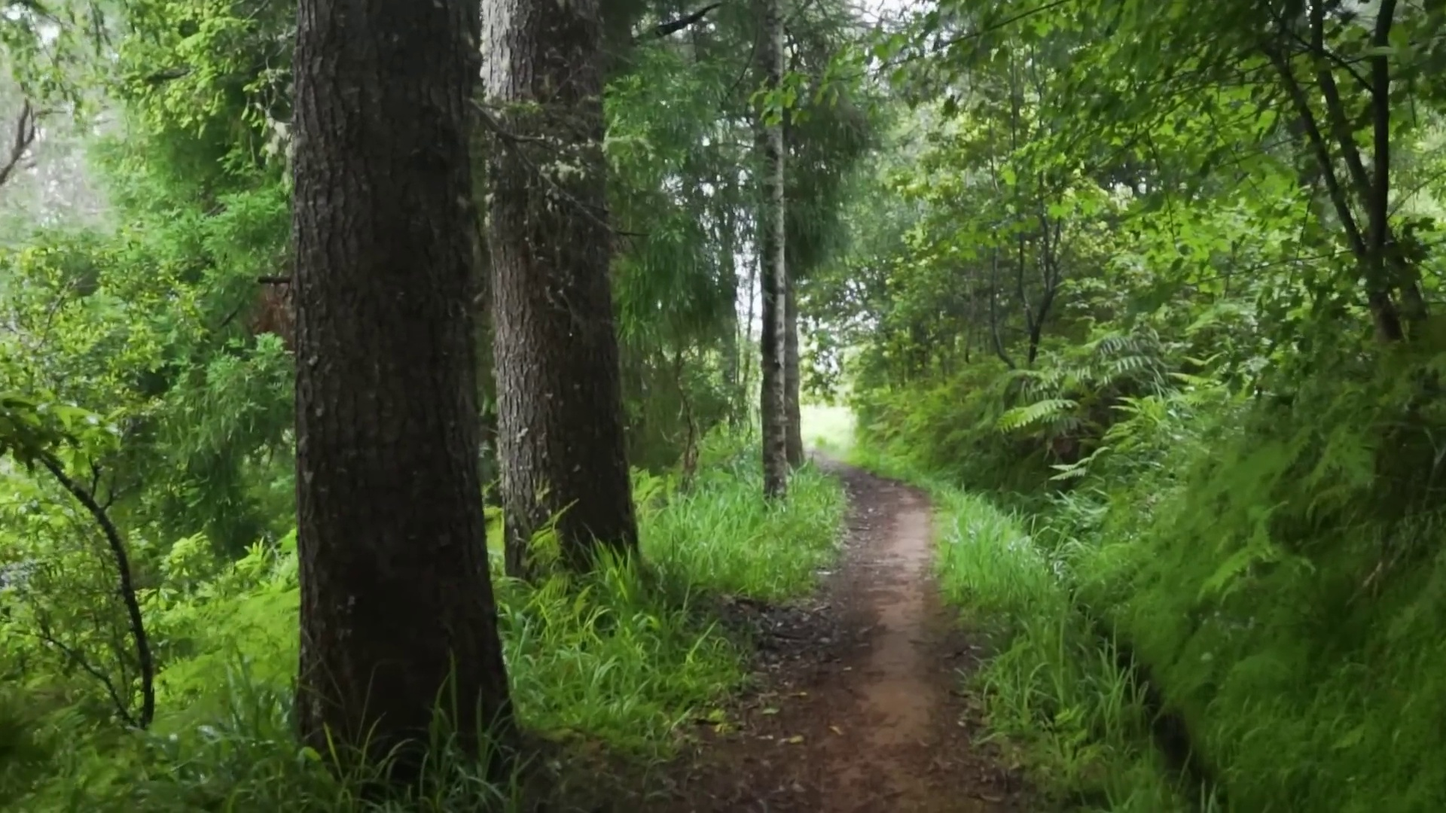tree: (293, 0, 509, 757), (483, 0, 637, 574), (755, 0, 789, 497)
